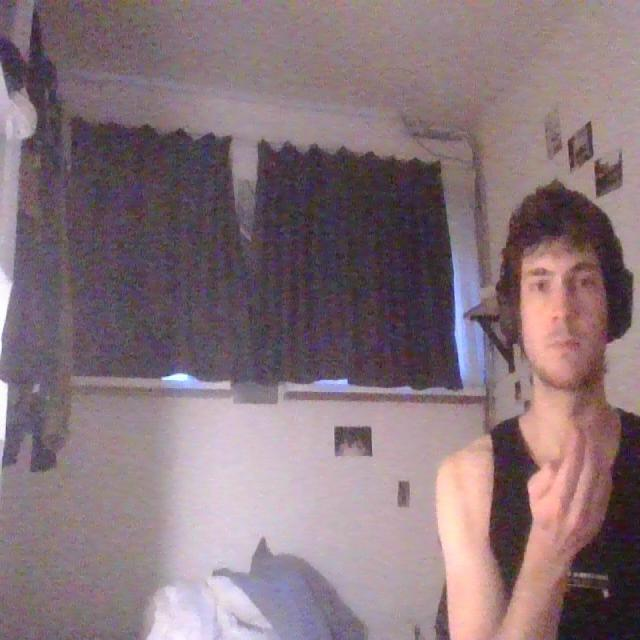forward: (524, 418, 614, 565)
